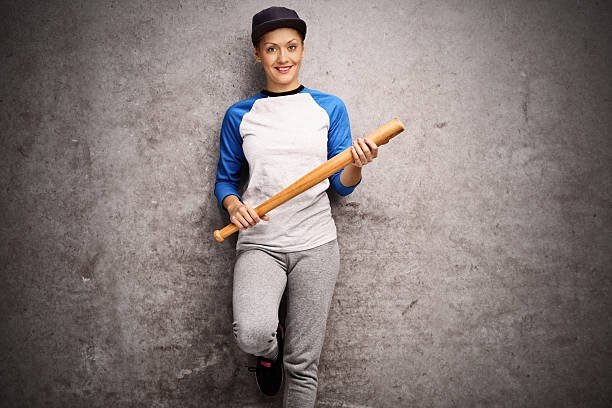bita: (218, 120, 401, 238)
